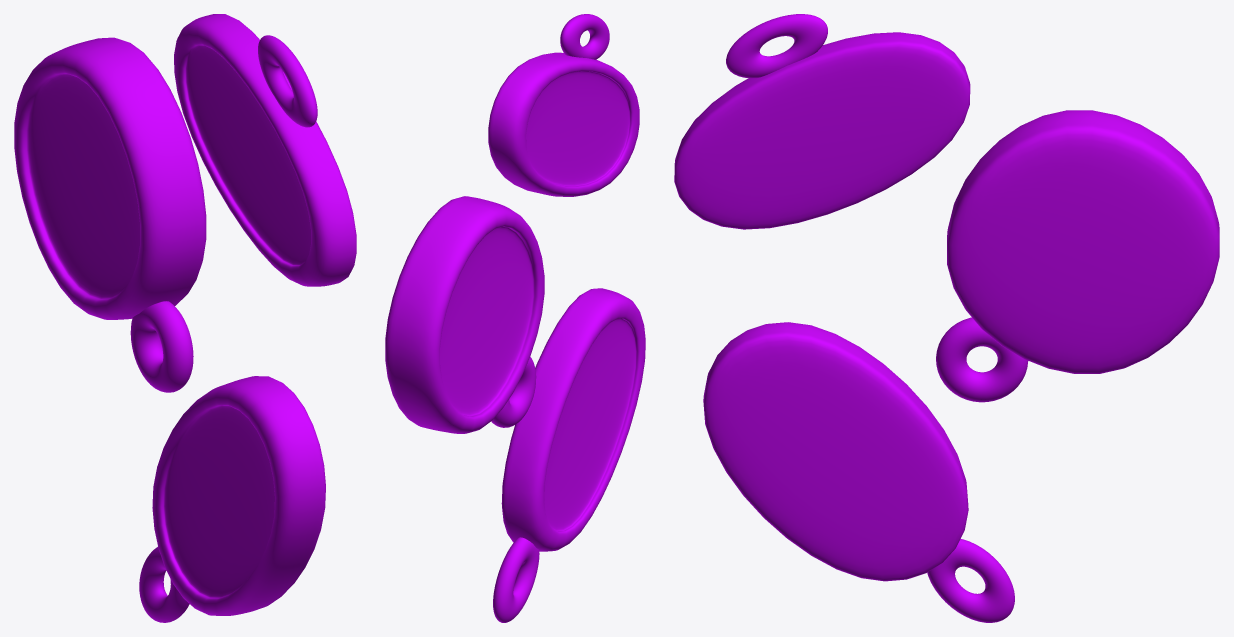
File: relojes 3.fbx
3 views of the same model, side by side, from view 1: azimuth 30°, elevation 25°; view 2: azimuth 150°, elevation 25°; view 3: azimuth 270°, elevation 25° (orthographic). The views are drawn at different scales.
Parts seen in each view (by area): view 1: polySurface11; view 2: polySurface11; view 3: polySurface11.
Boxes of the visible parts, x1=… form: polySurface11: x1=14, y1=14, x2=356, y2=622; polySurface11: x1=385, y1=14, x2=645, y2=622; polySurface11: x1=674, y1=14, x2=1219, y2=622.
Bounding box in the file's own units: 0.4302 × 3.81 × 3.06.
